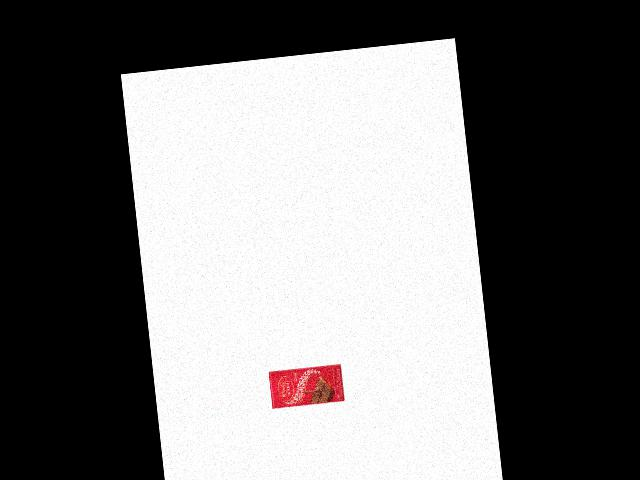chocolate: (268, 362, 344, 412)
